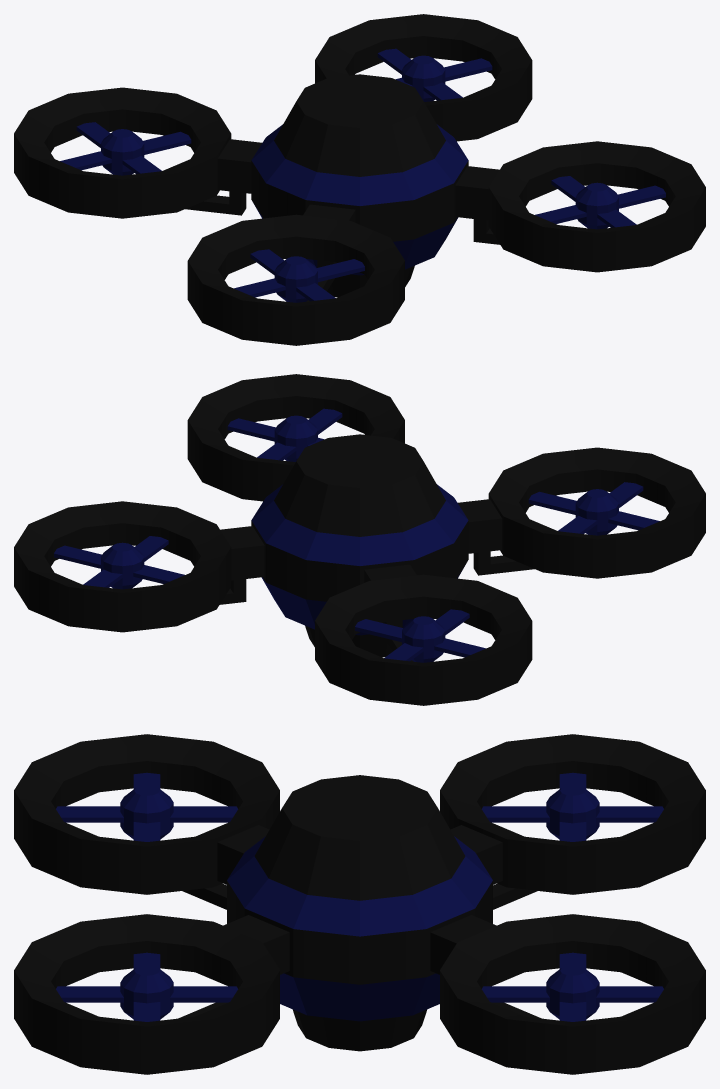
Rendered from Enemy01Idol.fbx.
The picture shows the model from 3 angles, top to bottom: view 1: azimuth 30°, elevation 25°; view 2: azimuth 150°, elevation 25°; view 3: azimuth 270°, elevation 25°; orthographic projection. The views are drawn at different scales.
Visible parts, largest first — view 1: Cylinder001, Cylinder005, Cylinder003, Cylinder002, Cylinder004; view 2: Cylinder001, Cylinder003, Cylinder005, Cylinder004, Cylinder002; view 3: Cylinder001, Cylinder003, Cylinder005, Cylinder002, Cylinder004.
Boxes of the visible parts, x1,y1,x2,y2 form: Cylinder001: (14, 14, 705, 345); Cylinder005: (60, 122, 191, 175); Cylinder003: (234, 249, 364, 302); Cylinder002: (535, 176, 665, 229); Cylinder004: (377, 48, 492, 101); Cylinder001: (14, 374, 705, 705); Cylinder003: (528, 482, 659, 535); Cylinder005: (355, 609, 485, 662); Cylinder004: (54, 536, 184, 589); Cylinder002: (227, 408, 342, 461); Cylinder001: (14, 734, 705, 1074); Cylinder003: (56, 772, 237, 841); Cylinder005: (482, 772, 663, 841); Cylinder002: (56, 952, 237, 1021); Cylinder004: (482, 952, 663, 1021).
Size of the model in its own units: 26 by 9 by 26.
